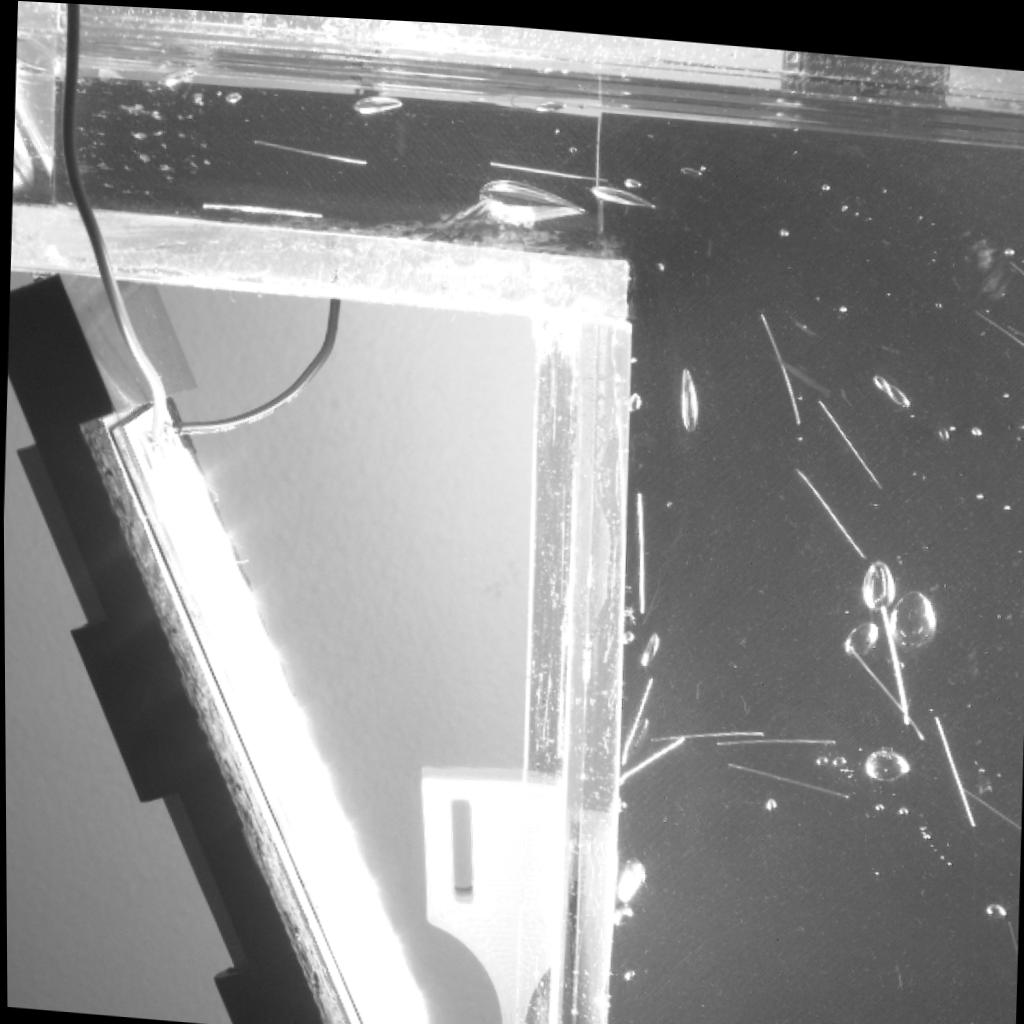Fiber: (841, 635, 926, 730), (790, 460, 868, 550), (811, 389, 882, 479), (756, 302, 805, 416), (728, 753, 854, 793), (933, 705, 974, 819), (875, 591, 909, 713), (617, 724, 688, 780), (251, 135, 366, 164), (620, 669, 657, 758), (955, 772, 1020, 819), (970, 293, 1024, 339), (487, 156, 605, 177), (196, 197, 325, 216), (651, 721, 765, 735), (636, 484, 645, 608), (719, 728, 834, 737), (1001, 907, 1016, 954), (1003, 243, 1024, 267), (1006, 310, 1024, 326)
